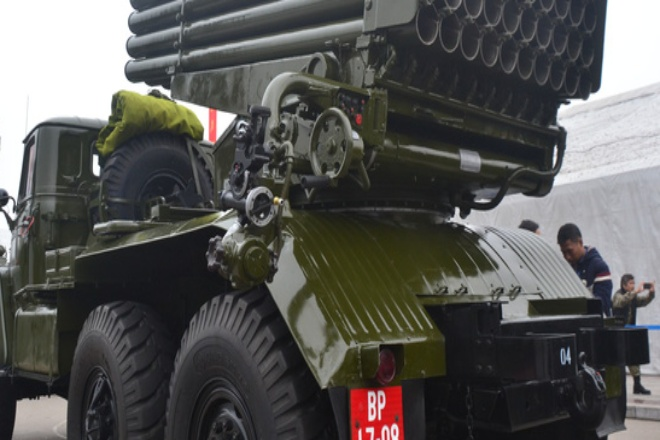plate: (349, 385, 401, 439)
